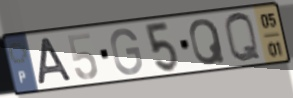5: (141, 19, 182, 74), (65, 30, 100, 82)
A: (37, 36, 75, 87)
G: (109, 26, 145, 77)
Q: (223, 11, 264, 65), (187, 17, 228, 68)
